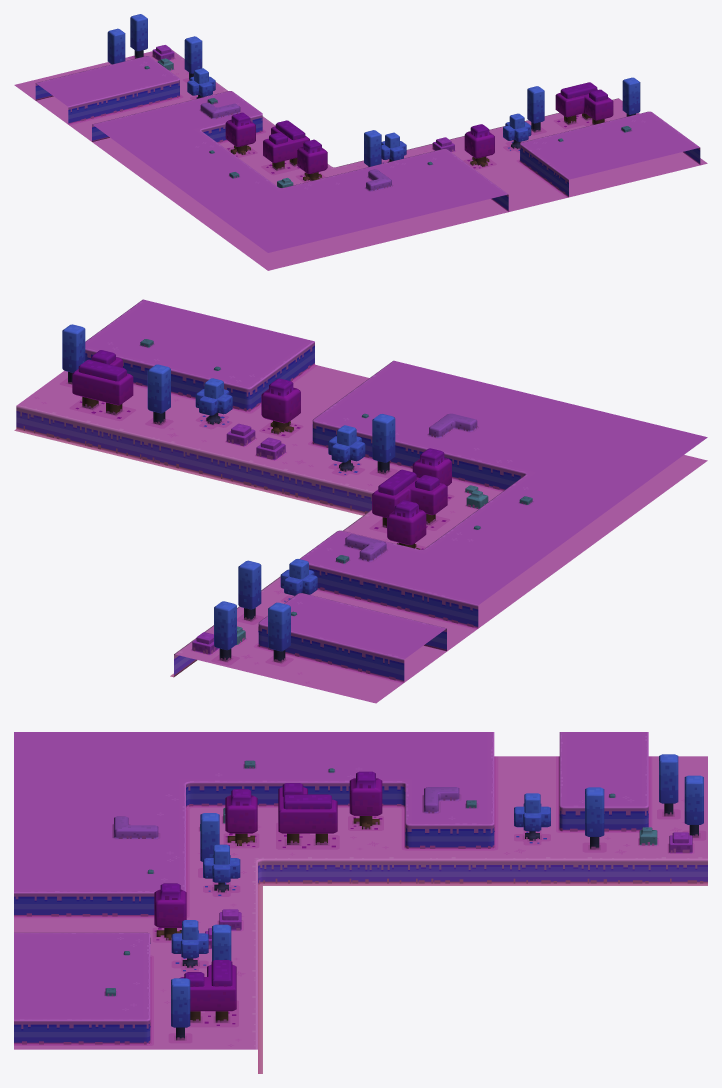
The model's file is C_forest2_out_RU.fbx.
The picture shows the model from 3 angles, top to bottom: view 1: azimuth 30°, elevation 25°; view 2: azimuth 150°, elevation 25°; view 3: azimuth 270°, elevation 25°; orthographic projection. The views are drawn at different scales.
Parts seen in each view (by area): view 1: C_forest2_out_RU; view 2: C_forest2_out_RU; view 3: C_forest2_out_RU.
Part boxes in pixels (left/top/right/bottom): C_forest2_out_RU: left=14, top=14, right=707, bottom=270; C_forest2_out_RU: left=14, top=299, right=707, bottom=703; C_forest2_out_RU: left=14, top=732, right=707, bottom=1073.
Bounding box in the file's own units: 117 × 15.31 × 117.
